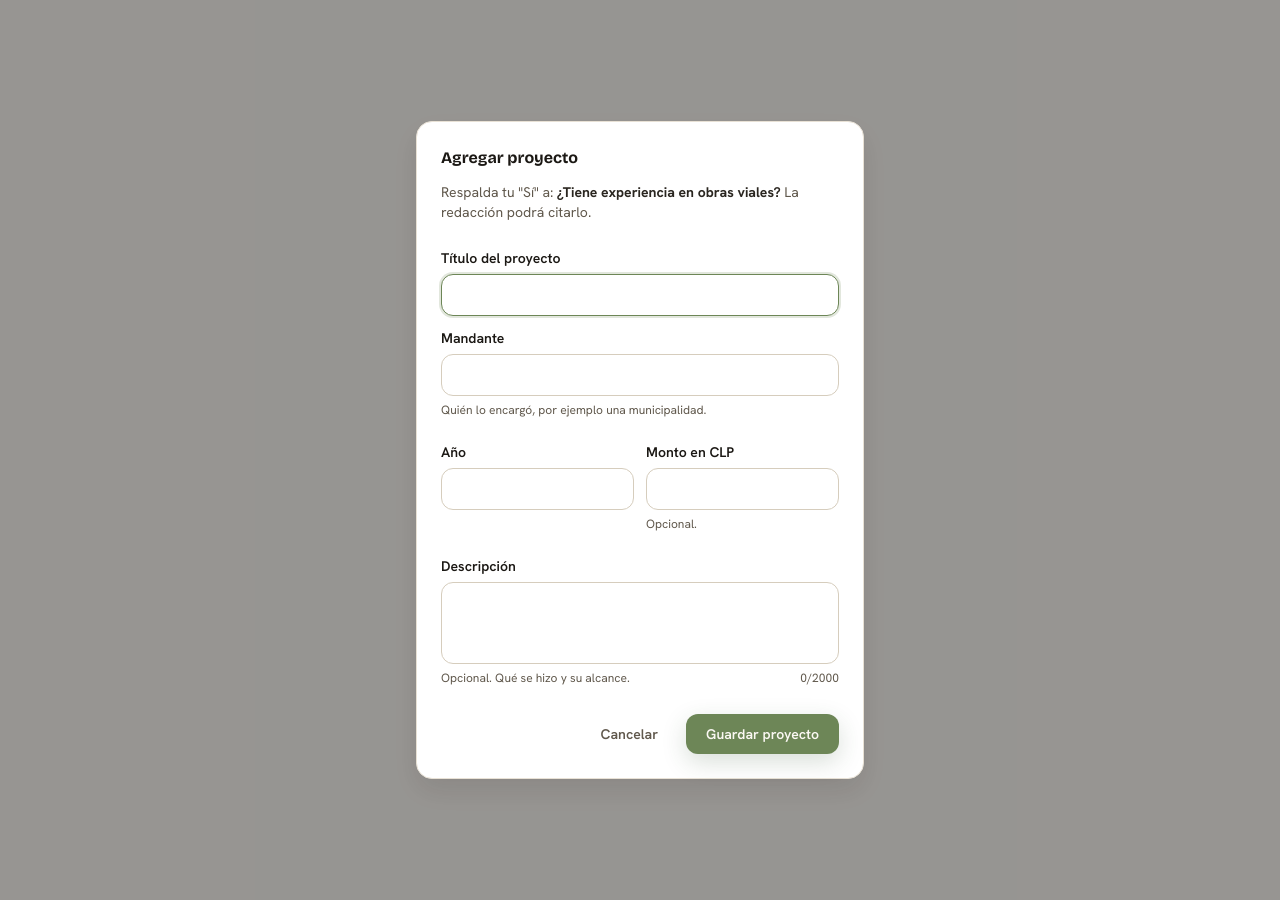
Scenario: EvidenceForm › sin título ni año válido no envía
Type "1700" into the field labelled "Año".
click(538, 489); type("1700")  # box [441,468,634,510]
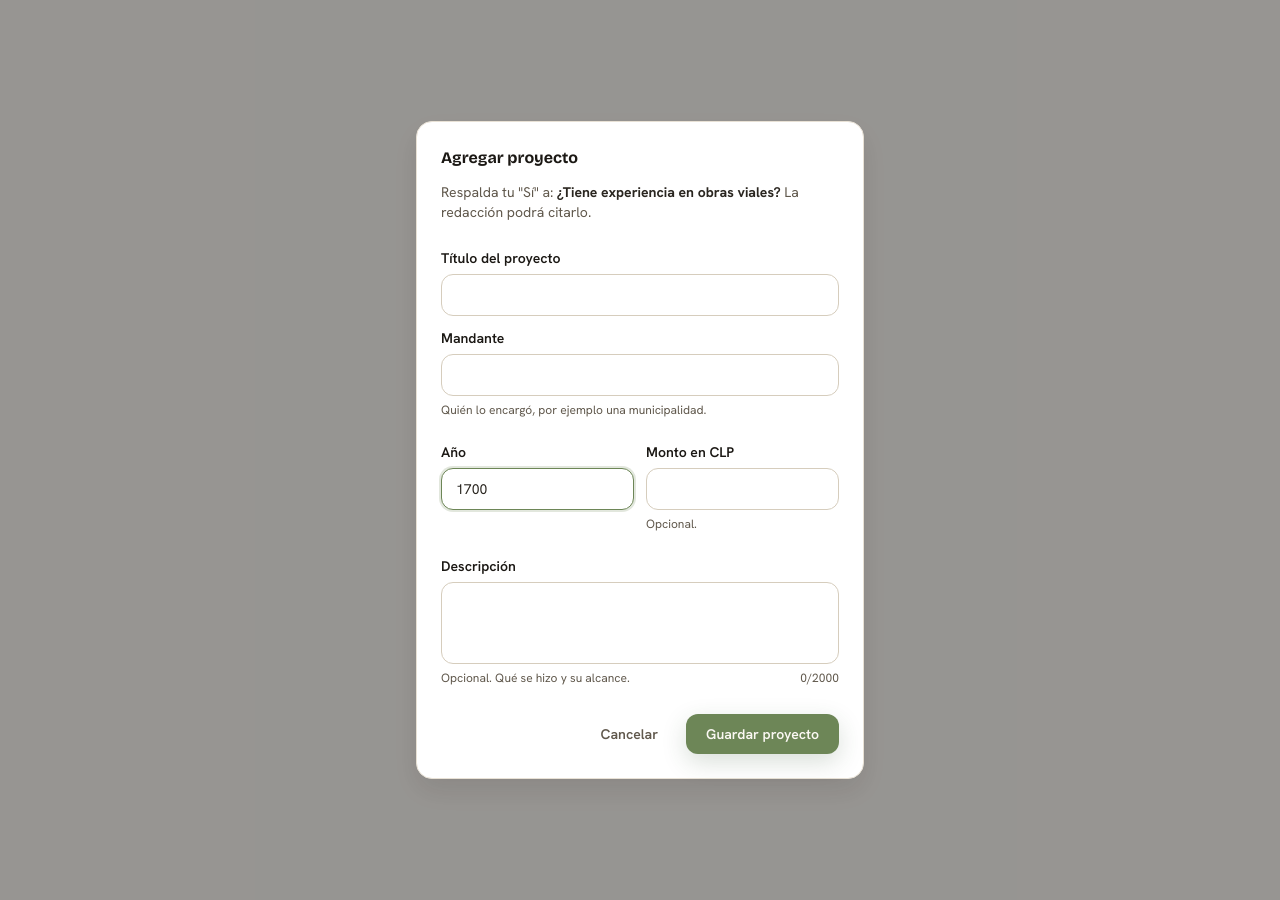
Click the button "Guardar proyecto".
click(763, 734)  # box [686,714,839,754]
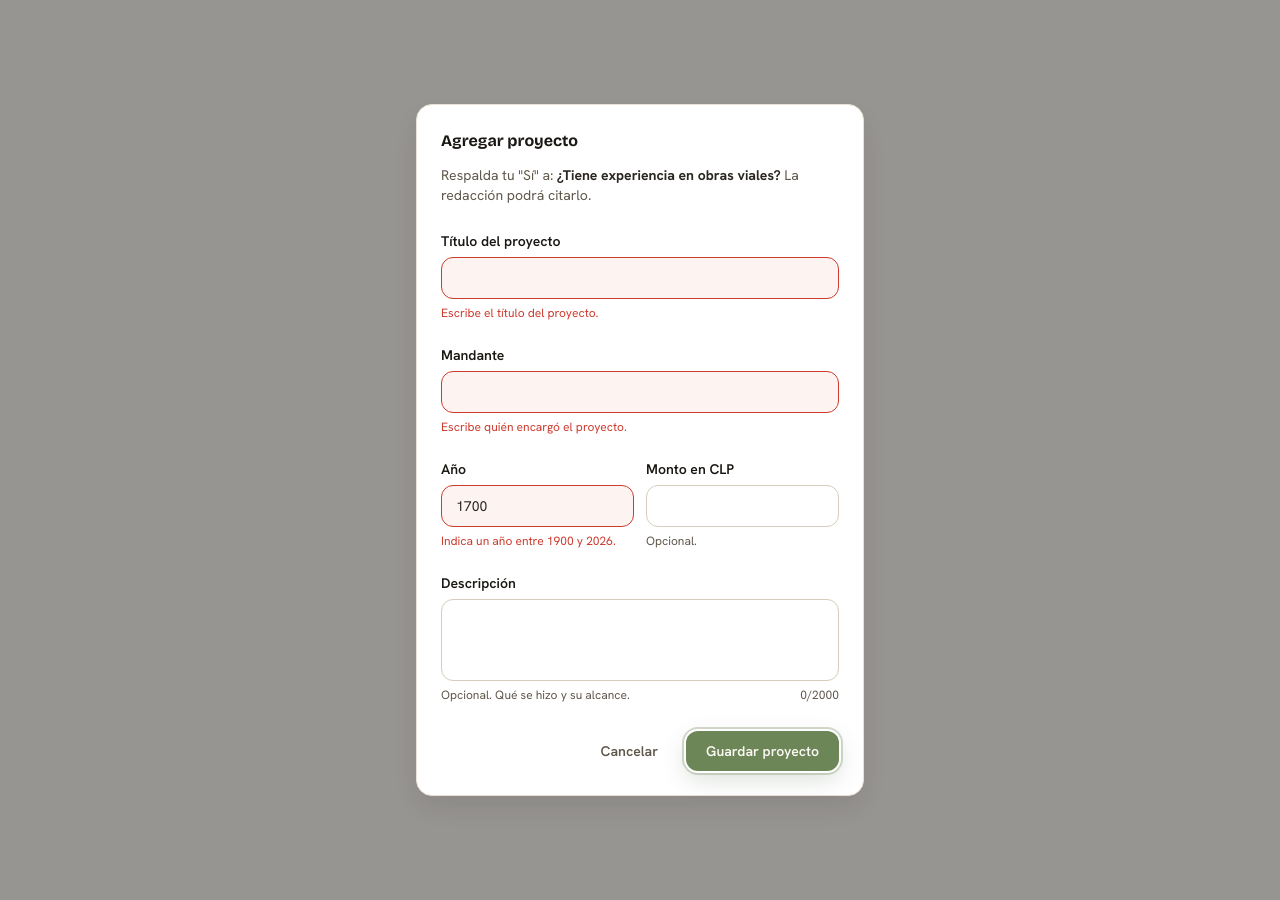
Check: the text "Escribe el título del proyecto." is shown, box [441,305,598,321]
Check: the text "Escribe quién encargó el proyecto." is shown, box [441,419,627,435]
Check: the text "Indica un año entre 1900 y 2026." is shown, box [441,533,634,549]
